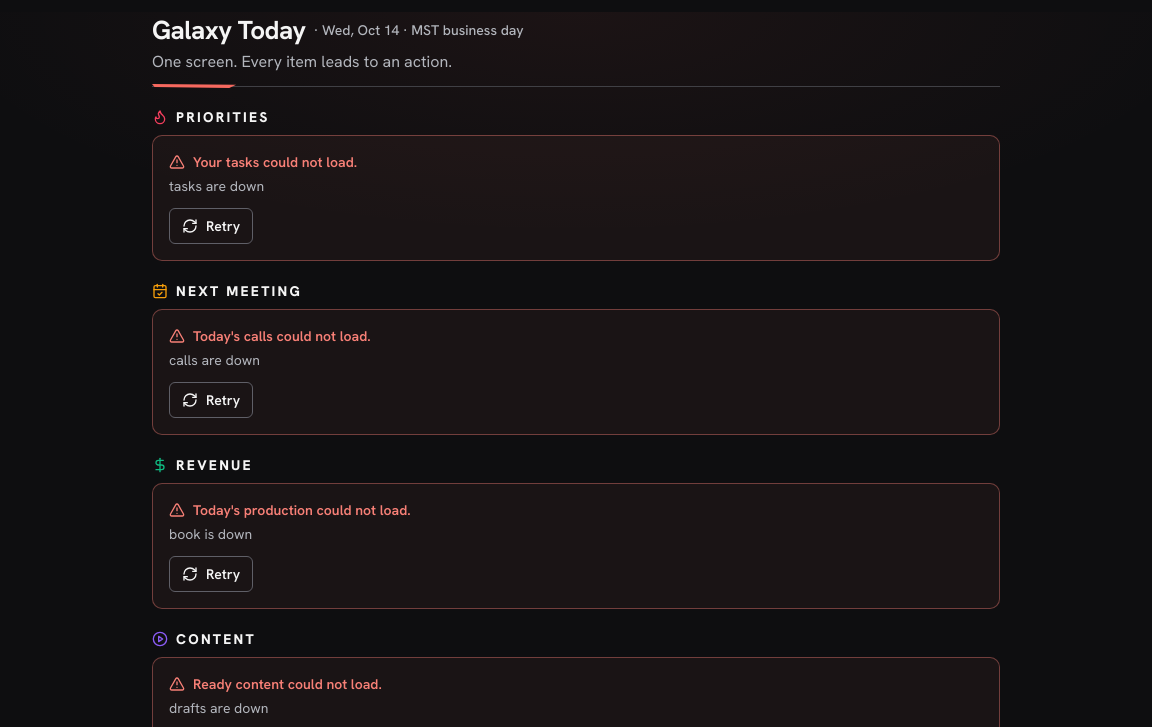
DashboardToday › says each widget could not load, with its own Retry, when the reads fail, never a zero, and retries one widget alone
The image size is (1152, 727).
Click the button "Retry" below "book is down" at (211, 574), box [169,556,253,592]
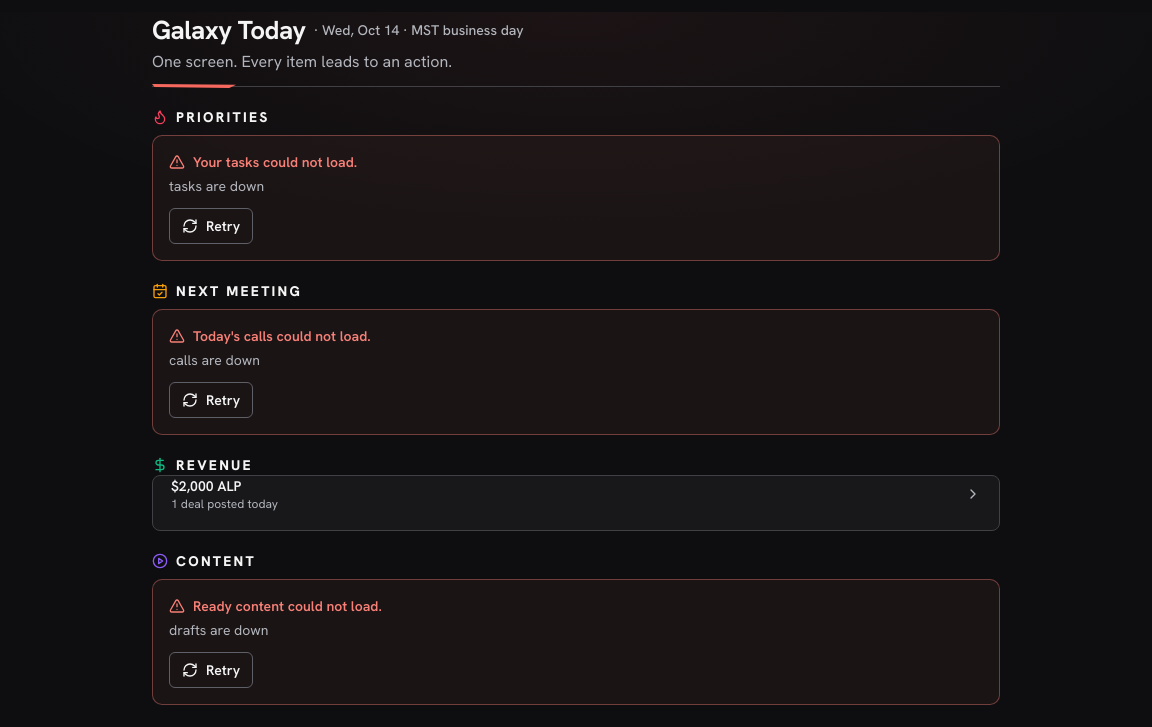
Check: the text "$2,000 ALP" is shown, box [171,477,241,495]
Check: the text "1 deal posted today" is shown, box [171,496,278,512]
Check: the number of messages is 6
